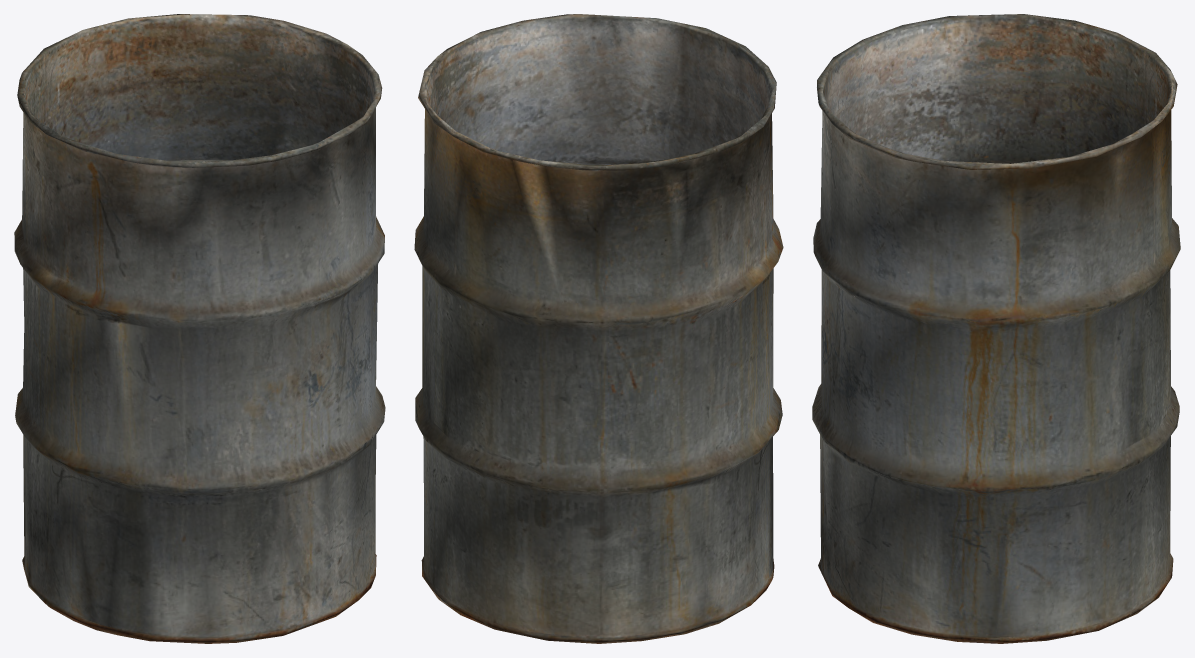
File: rusty_metal_barrel2.glb
3 views of the same model, side by side, from view 1: azimuth 30°, elevation 25°; view 2: azimuth 150°, elevation 25°; view 3: azimuth 270°, elevation 25° (orthographic).
Parts seen in each view (by area): view 1: vijnbjz_LOD0_TIER3_000; view 2: vijnbjz_LOD0_TIER3_000; view 3: vijnbjz_LOD0_TIER3_000.
Part boxes in pixels (left/top/right/bottom): vijnbjz_LOD0_TIER3_000: left=14, top=14, right=385, bottom=643; vijnbjz_LOD0_TIER3_000: left=414, top=14, right=783, bottom=643; vijnbjz_LOD0_TIER3_000: left=812, top=14, right=1180, bottom=643.
Size of the model in its own units: 0.5916 by 0.85 by 0.5893.
Materials: 1 (1 with a texture image).
